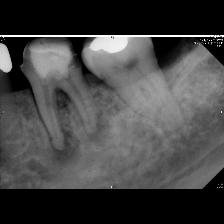apical_lesion: (21, 38, 127, 178)
